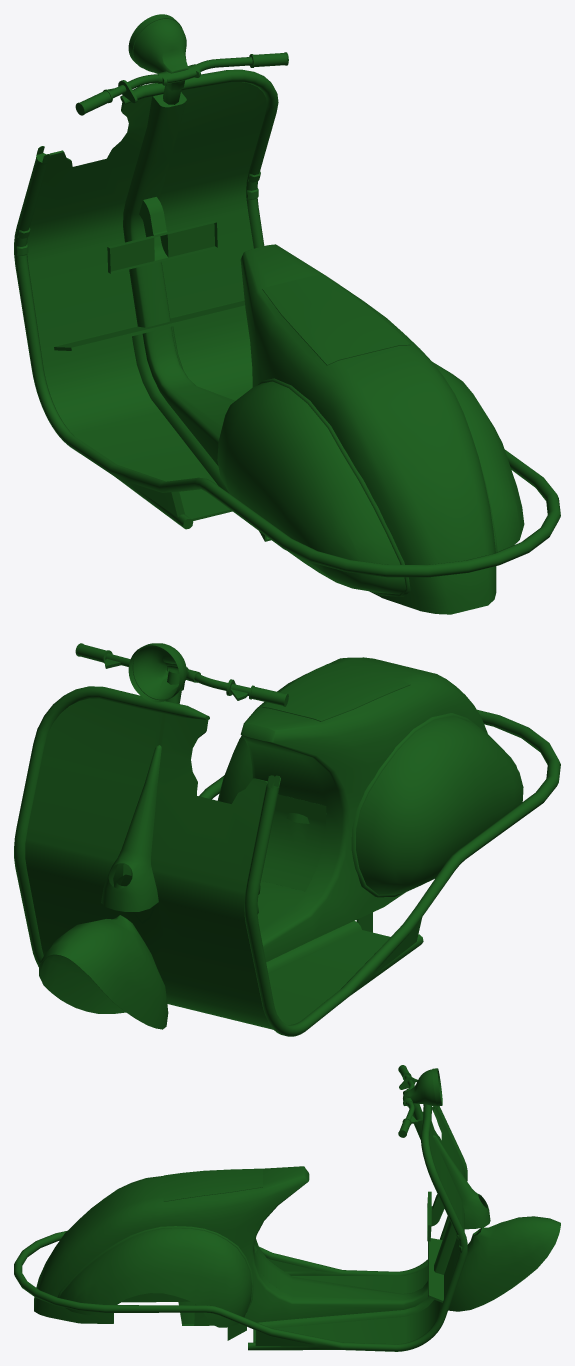
The model's file is AM2_Vesper3.fbx.
3 views of the same model, one above another, from view 1: azimuth 30°, elevation 25°; view 2: azimuth 150°, elevation 25°; view 3: azimuth 270°, elevation 25° (orthographic). The views are drawn at different scales.
Visible parts, largest first — view 1: body_engineHatch_lp; view 2: body_engineHatch_lp; view 3: body_engineHatch_lp.
Part boxes in pixels (<box>): body_engineHatch_lp: <box>14,14,560,614</box>; body_engineHatch_lp: <box>14,643,560,1036</box>; body_engineHatch_lp: <box>14,1065,560,1351</box>.
Size of the model in its own units: 51.85 by 74.27 by 145.
